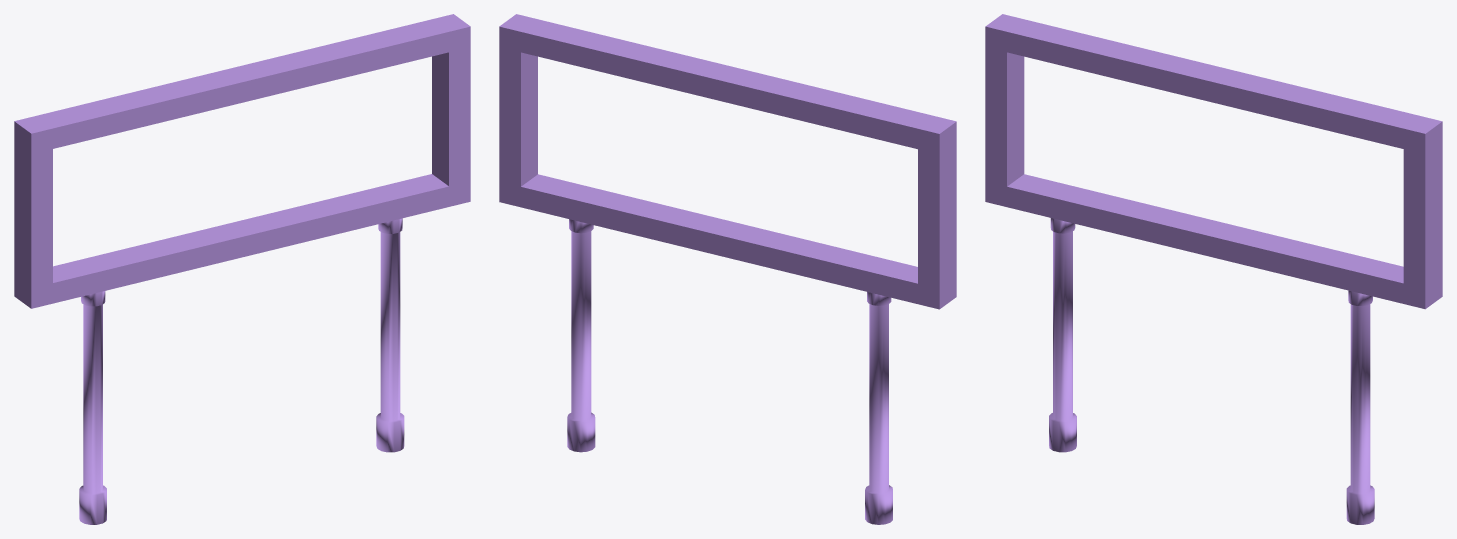
File: cartelfinal.fbx
3 views of the same model, side by side, from view 1: azimuth 30°, elevation 25°; view 2: azimuth 150°, elevation 25°; view 3: azimuth 330°, elevation 25° (orthographic).
Parts seen in each view (by area): view 1: Plane; view 2: Plane; view 3: Plane.
Part boxes in pixels (x1,y1,x2,y2): Plane: (14, 14, 470, 524); Plane: (499, 14, 956, 524); Plane: (985, 14, 1442, 524).
Bounding box in the file's own units: 2117 × 1879 × 143.
